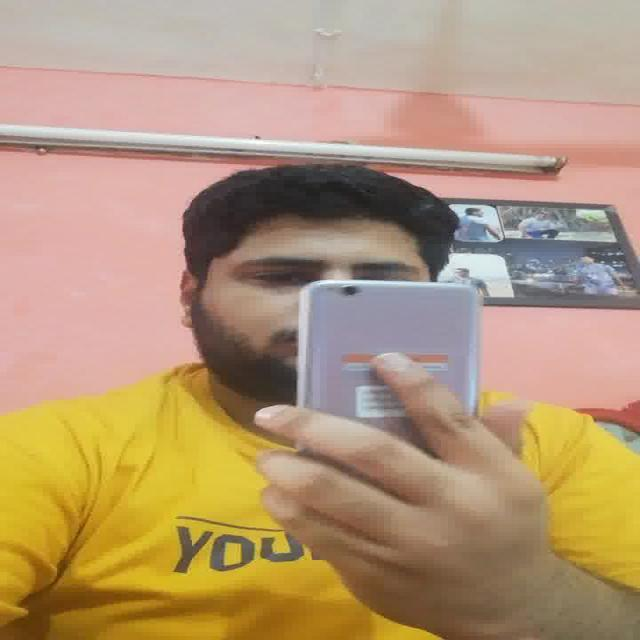Phone: (296, 278, 484, 441)
